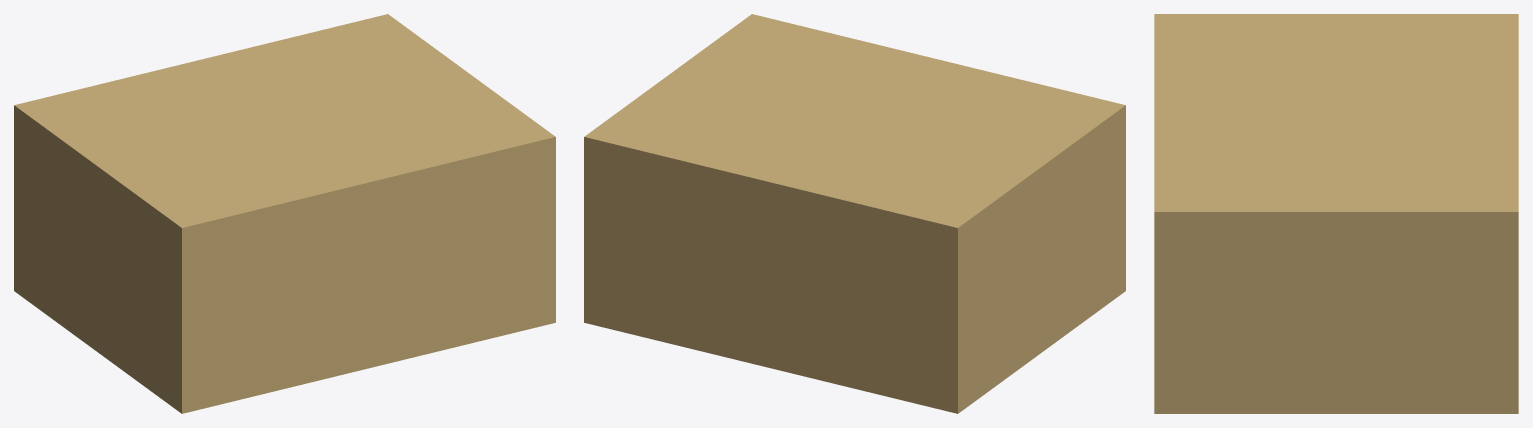
3 views of the same model, side by side, from view 1: azimuth 30°, elevation 25°; view 2: azimuth 150°, elevation 25°; view 3: azimuth 270°, elevation 25° (orthographic). The views are drawn at different scales.
Parts seen in each view (by area): view 1: L1-3-S12-328-WEB08; view 2: L1-3-S12-328-WEB08; view 3: L1-3-S12-328-WEB08.
Part boxes in pixels (x1,y1,x2,y2): L1-3-S12-328-WEB08: (14, 14, 555, 413); L1-3-S12-328-WEB08: (584, 14, 1125, 413); L1-3-S12-328-WEB08: (1154, 14, 1518, 413).
Size of the model in its own units: 0.045 by 0.0214 by 0.035.
